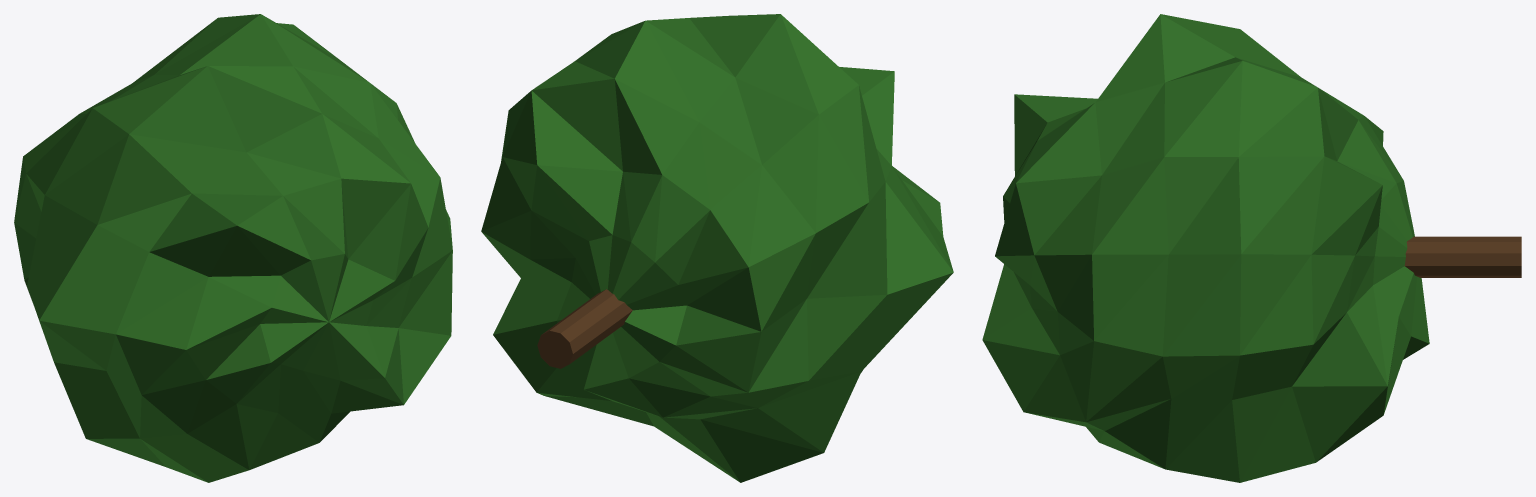
The model's file is Tree_LowPoly.obj.
3 views of the same model, side by side, from view 1: azimuth 30°, elevation 25°; view 2: azimuth 150°, elevation 25°; view 3: azimuth 270°, elevation 25° (orthographic). The views are drawn at different scales.
Visible parts, largest first — view 1: canopy; view 2: canopy, trunk; view 3: canopy, trunk.
Boxes of the visible parts, <box> form: canopy: <box>14,14,452,482</box>; canopy: <box>481,14,953,482</box>; trunk: <box>537,289,632,368</box>; canopy: <box>982,14,1429,482</box>; trunk: <box>1404,236,1521,277</box>.
Size of the model in its own units: 354 by 353 by 388.
